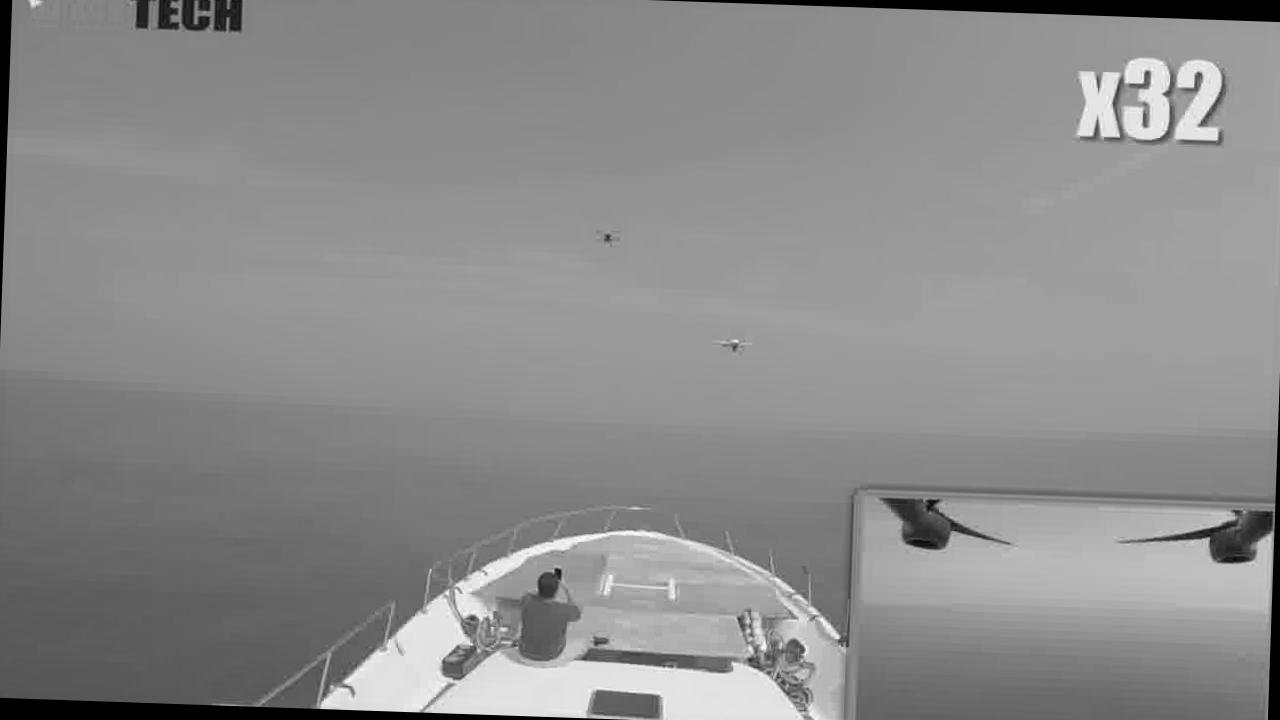drone: (704, 320, 773, 362), (590, 212, 630, 258)
